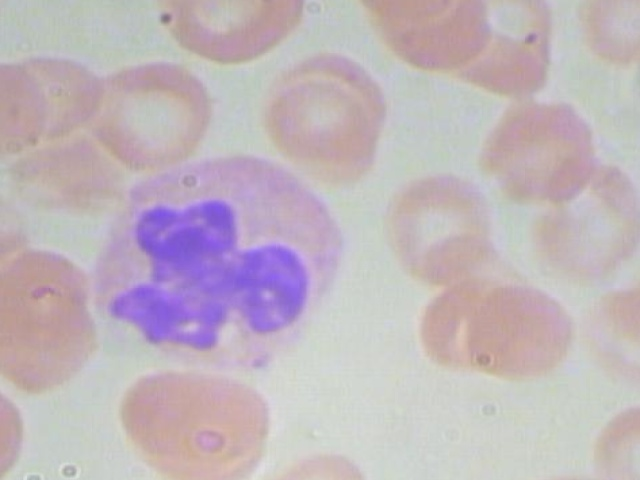WBC: (76, 150, 347, 379)
